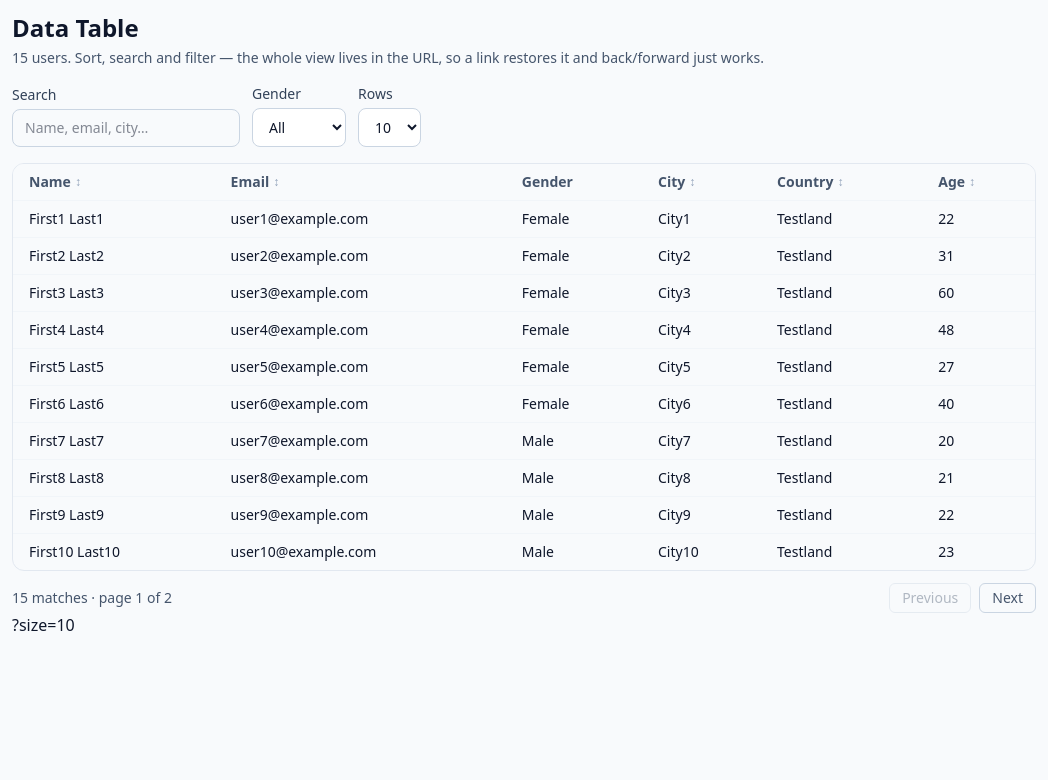
Test: UsersTable › returns to page 1 when a filter changes
The image size is (1048, 780).
expect the text "15 users" is shown: met, box [12,48,764,67]
Step 1. Click the button "Next" → (1008, 598), box [979,583,1036,613]
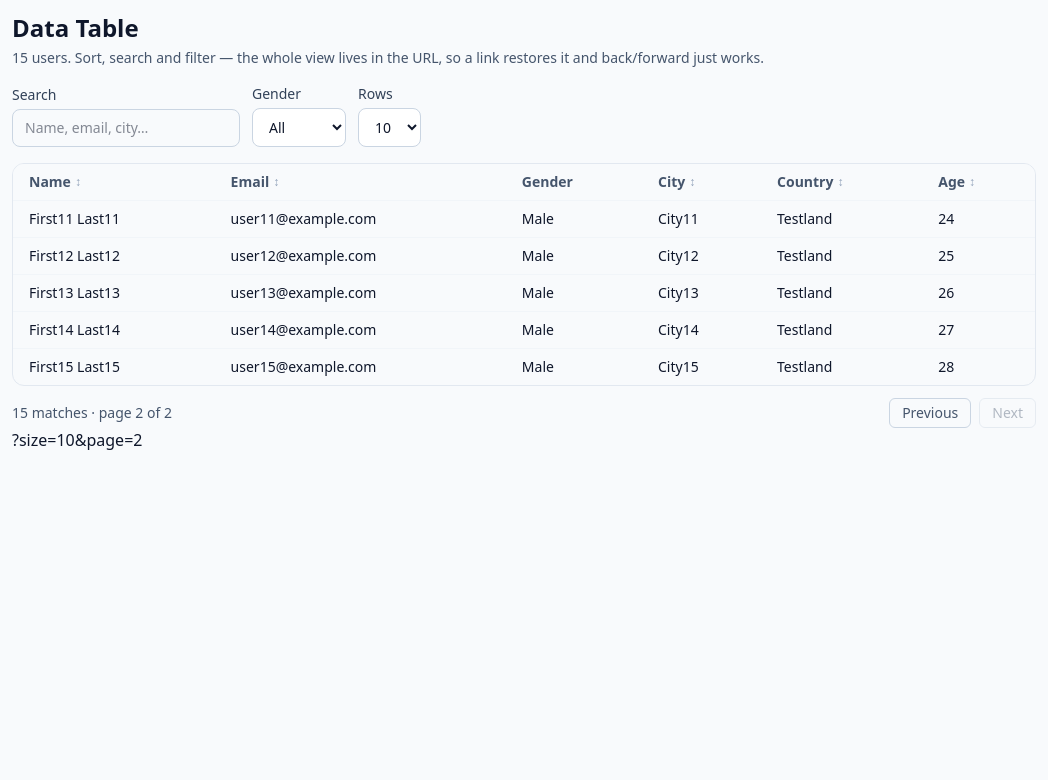
expect the text "15 matches · page 2 of 2" is shown: met, box [12,403,172,423]
expect the text with test id "search" shows "page=2": met, box [12,429,142,451]
Changing the gender filter must drop back to page 1.
Step 2. Select "Female" in the dropdown named "Filter by gender" → (299, 128), box [252,108,346,147]
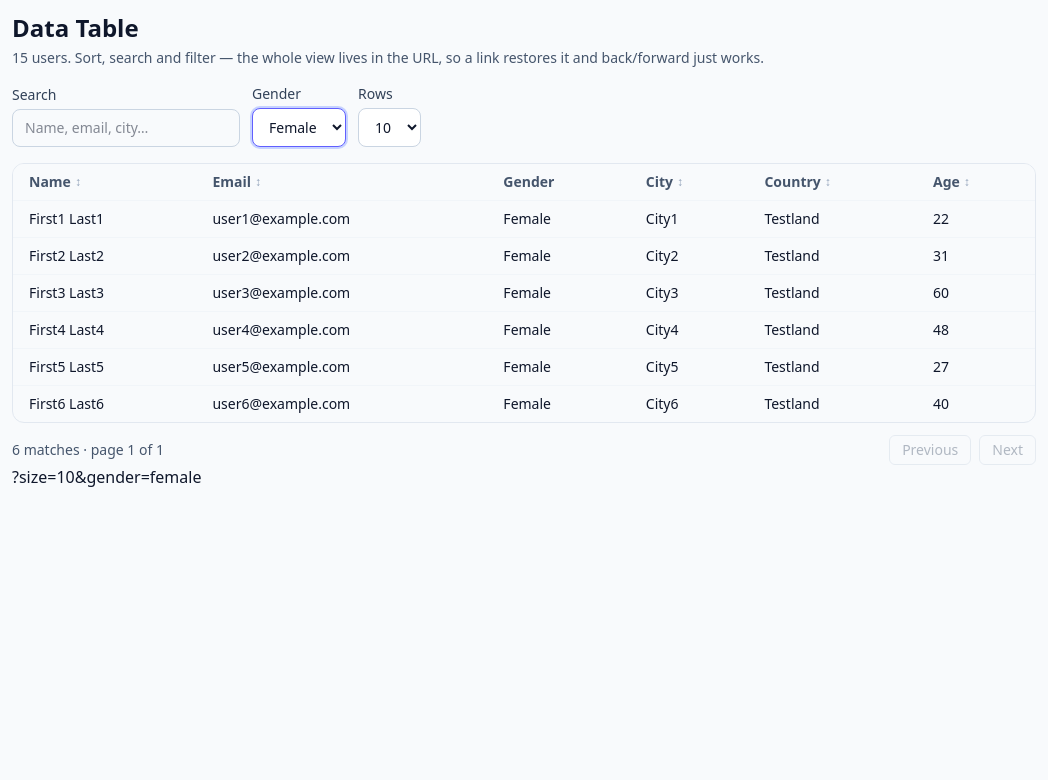
expect the text "6 matches · page 1 of 1" is shown: met, box [12,440,164,460]
expect the text with test id "search" shows "gender=female": met, box [12,466,202,488]
expect the text with test id "search" no longer shows "page=2": met
